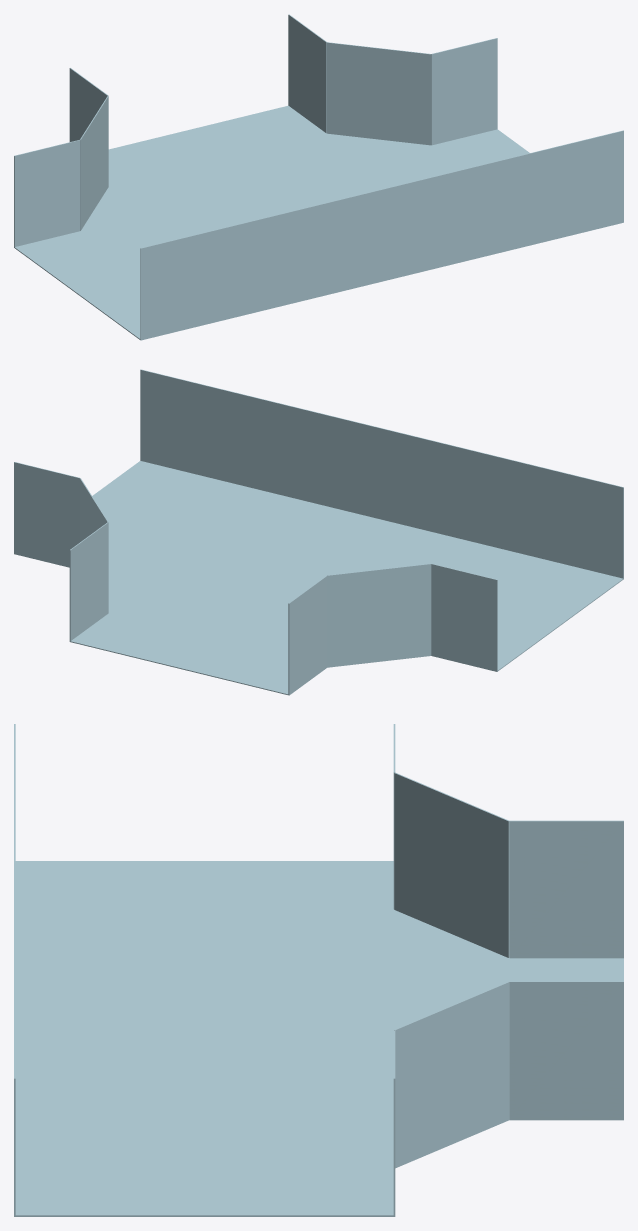
3 renders of one model, top to bottom at view 1: azimuth 30°, elevation 25°; view 2: azimuth 150°, elevation 25°; view 3: azimuth 270°, elevation 25°, orthographic. The views are drawn at different scales.
Visible parts, largest first — view 1: L2-C13; view 2: L2-C13; view 3: L2-C13.
Boxes of the visible parts, x1,y1,x2,y2 form: L2-C13: (14, 14, 623, 340); L2-C13: (14, 369, 623, 695); L2-C13: (14, 724, 623, 1216).
Bounding box in the file's own units: 1.1 × 0.2 × 0.8.
